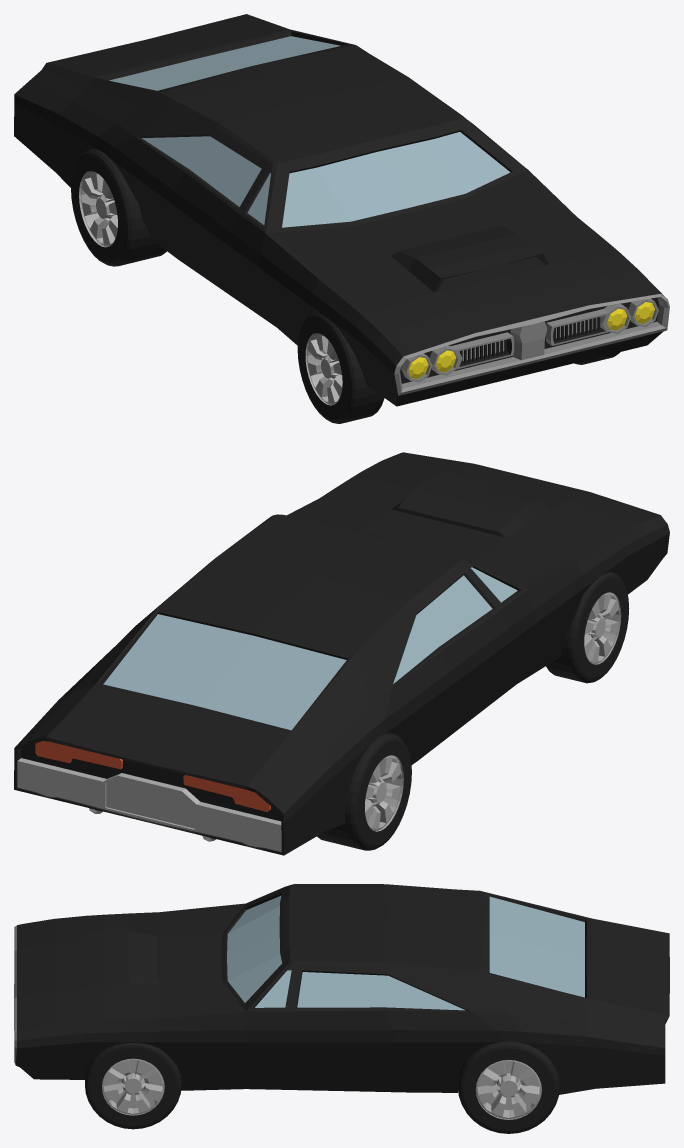
Rendered from v8car.glb.
3 renders of one model, top to bottom at view 1: azimuth 30°, elevation 25°; view 2: azimuth 150°, elevation 25°; view 3: azimuth 270°, elevation 25°, orthographic. The views are drawn at different scales.
Visible parts, largest first — view 1: Cube.001, Cylinder.002; view 2: Cube.001, Cylinder.002; view 3: Cube.001, Cylinder.002.
Boxes of the visible parts, <box> form: Cube.001: <box>14,14,669,406</box>; Cylinder.002: <box>71,149,620,423</box>; Cube.001: <box>14,452,669,855</box>; Cylinder.002: <box>317,572,629,850</box>; Cube.001: <box>14,884,669,1094</box>; Cylinder.002: <box>85,1041,559,1133</box>.
Size of the model in its own units: 142 by 87.5 by 333.
2 materials, 2 textured.
